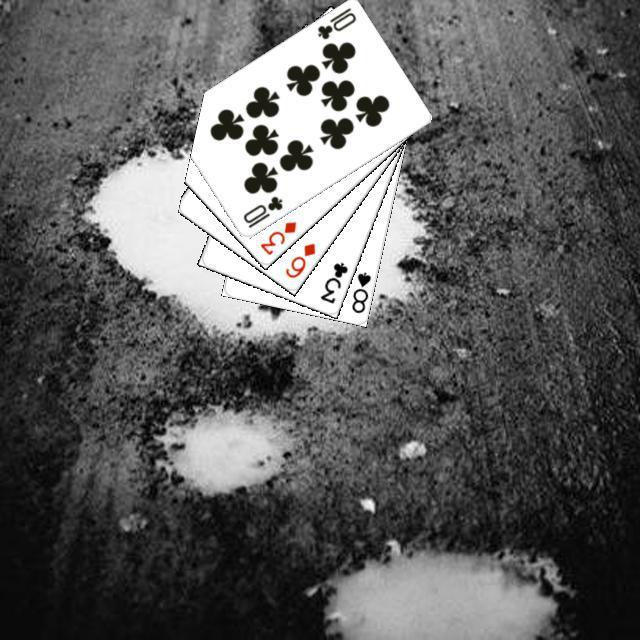10c: (238, 191, 284, 230), (312, 2, 358, 41)
3c: (315, 257, 349, 305)
3d: (255, 216, 298, 257)
6d: (280, 238, 317, 280)
8s: (347, 267, 373, 315)
